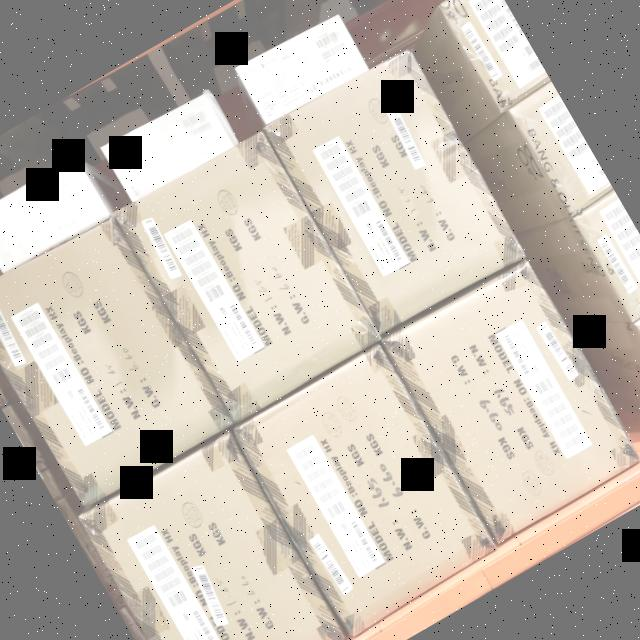box: (117, 132, 380, 420), (237, 346, 498, 630), (266, 51, 524, 334), (385, 261, 640, 541), (0, 217, 230, 504), (80, 432, 344, 640), (103, 90, 237, 201), (238, 15, 368, 126), (0, 157, 109, 274)
